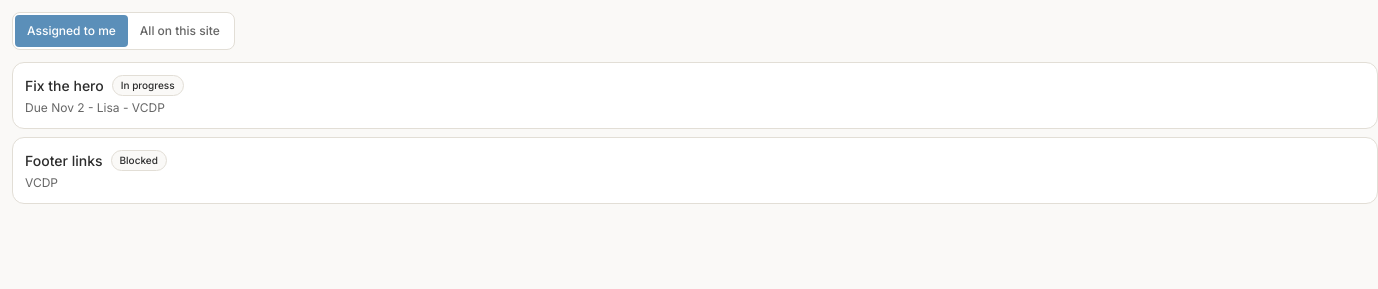
Scenario: Tasks tab › a row shows title, status, due date, assignee first name and project; click expands the description
Check: the text "Make it taller" is not shown
Step 1. Click the button "Fix the hero In progress Due Nov 2 - Lisa - VCDP" → (64,85), box [25,75,1365,116]
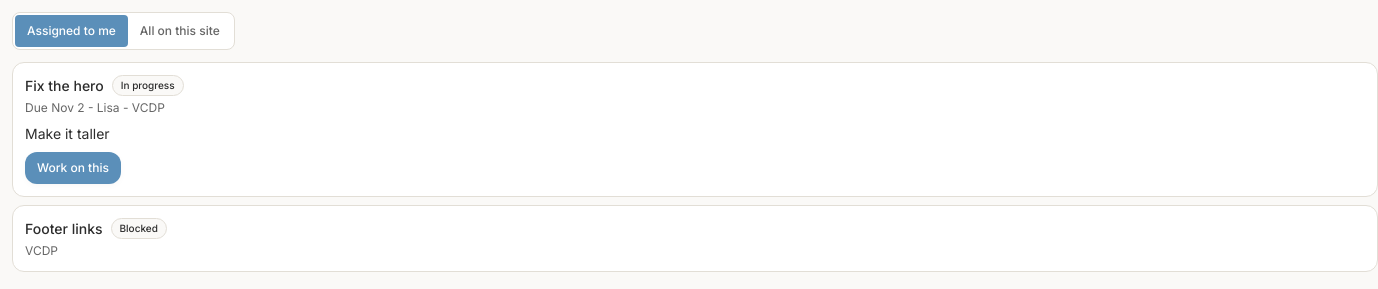
Check: the text "Make it taller" is shown, box [25,125,110,142]
